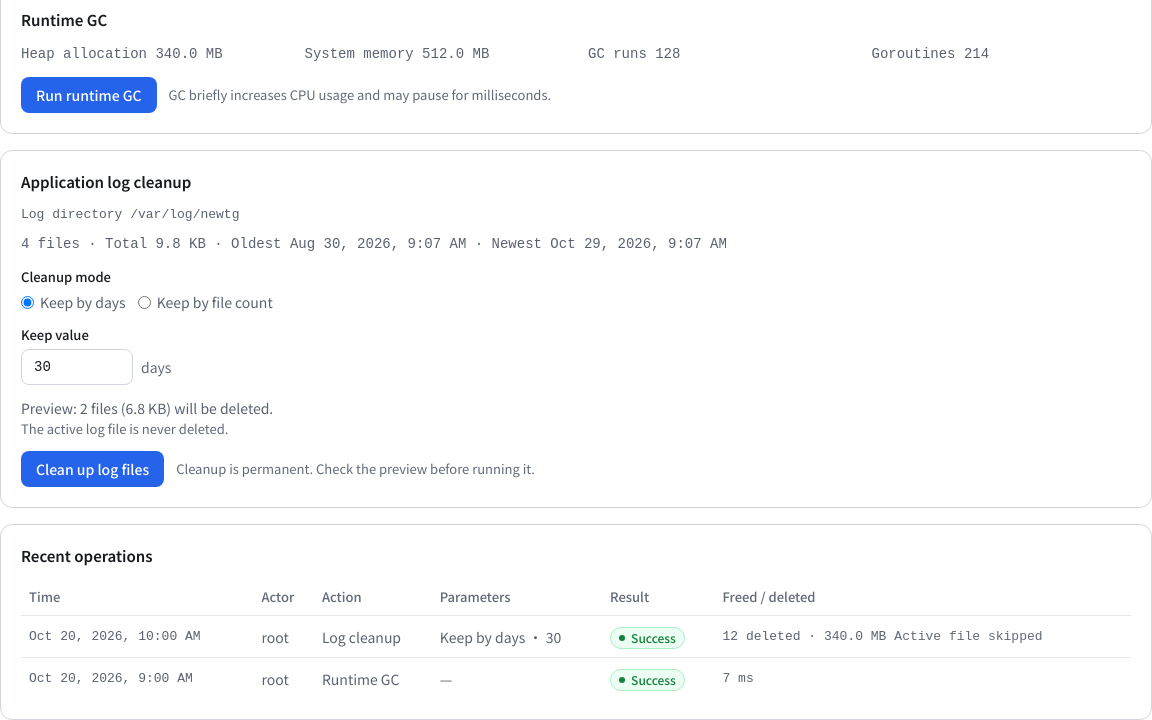
it: maintenance actions › confirms and cleans logs with mode and value in the query
(page scrolled)
Click the button "Clean up log files" at (93, 469), box [21,451,164,487]
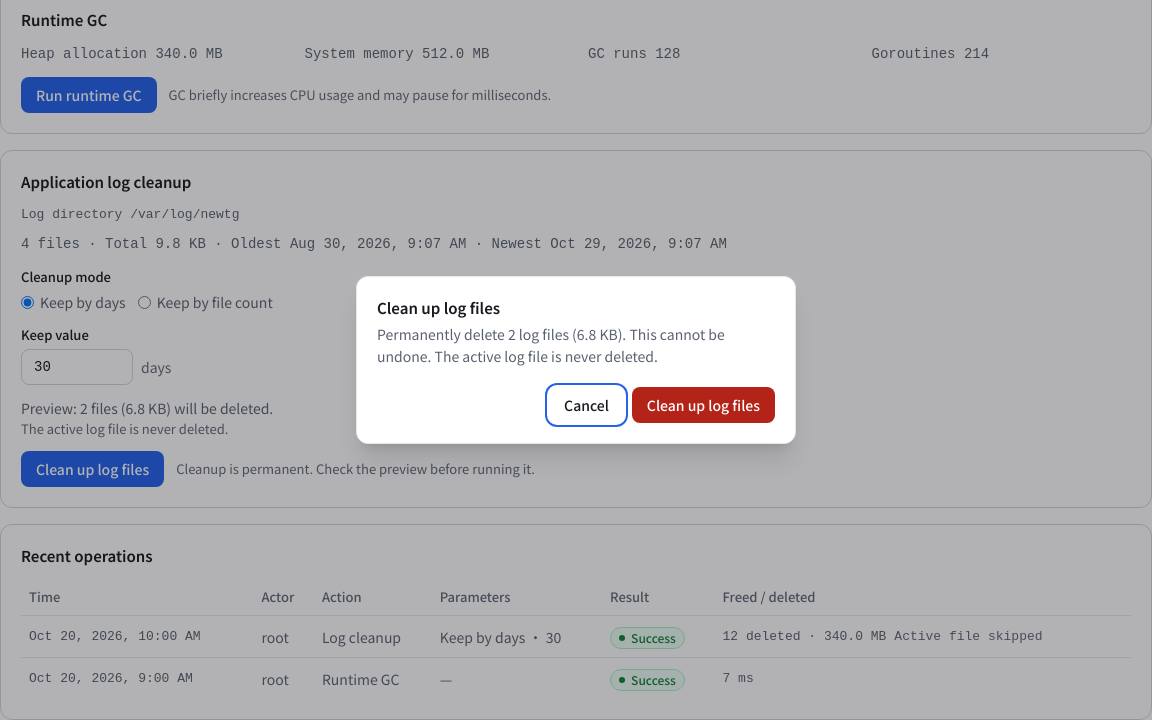
Expected: the dialog shows "2 log files", [377,324,725,366]
Expected: the dialog shows "This cannot be undone.", [377,324,725,366]
Click the button "Clean up log files" at (703, 405), box [632,387,775,423]
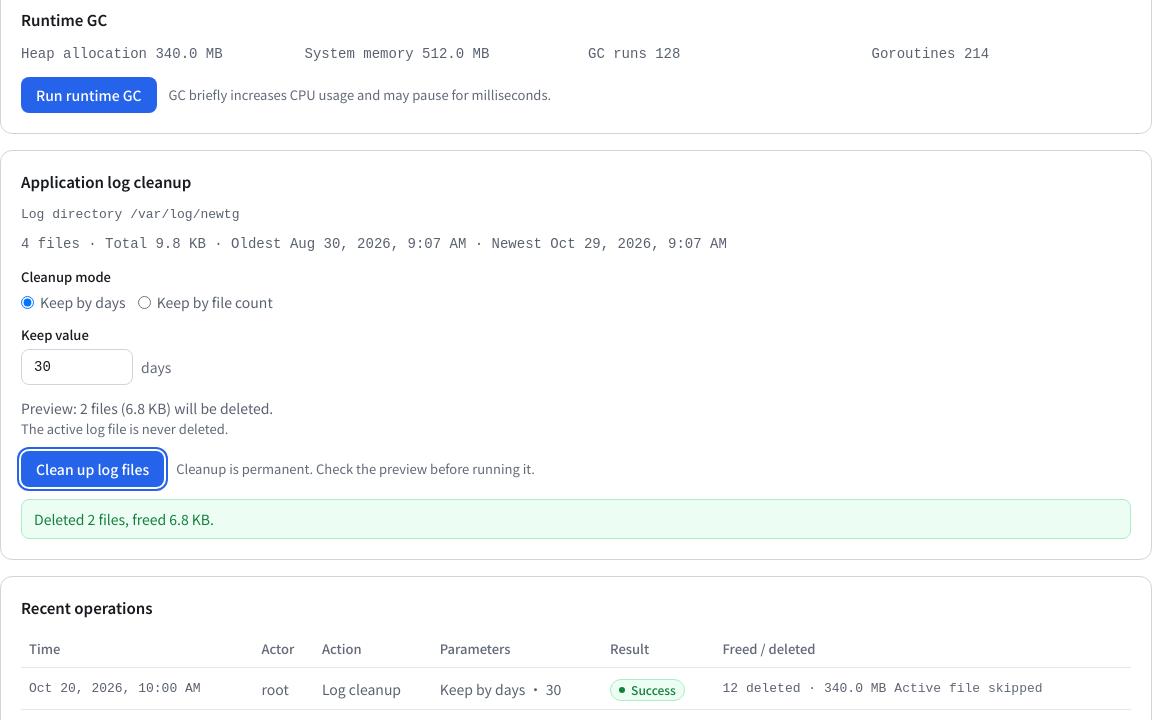
Expected: the text with test id "performance-logs-result" shows "Deleted 2 files", [34,509,214,529]
